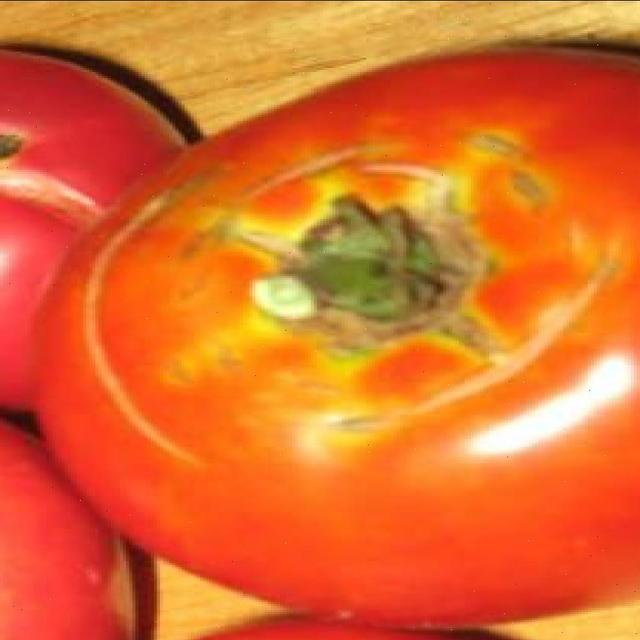Cracking Fruit: (36, 61, 329, 229)
